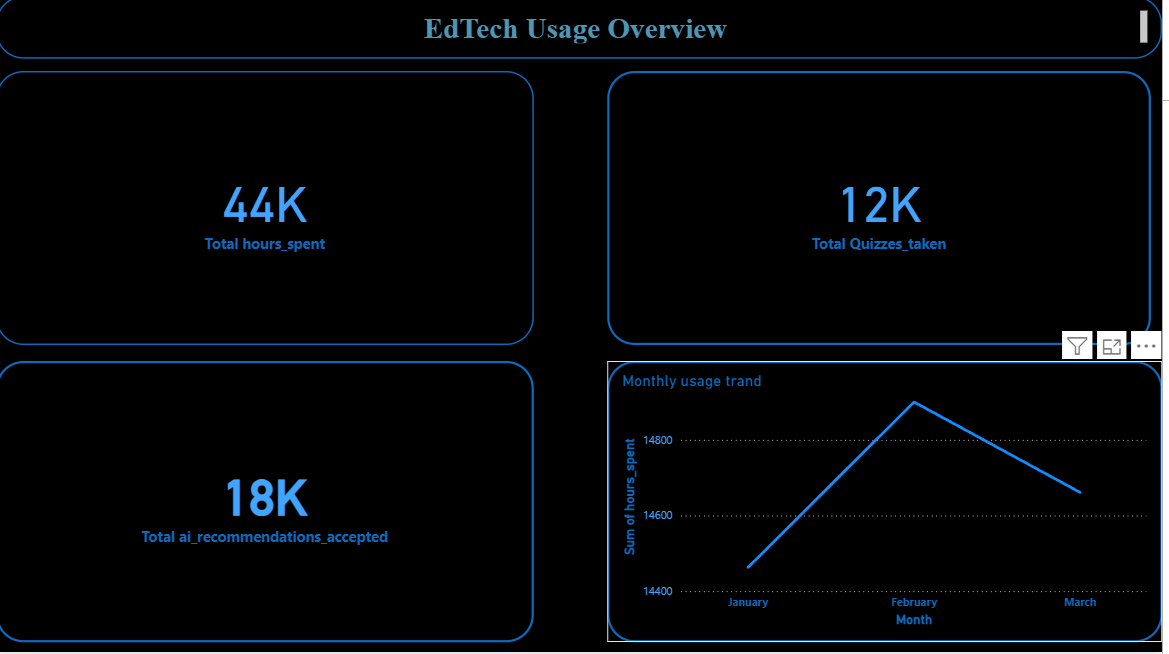

What the dashboard file says about the page in this screenshot:
{"tool":"powerbi","page":{"name":"Page 1","canvas":[1280,720],"ordinal":0},"visuals":[{"type":"textbox","box":[0,0,1280.3,68.6],"z":0},{"type":"card","fields":{"Values":["Sum(edtech_usage.hours_spent)"]},"box":[0,82.3,590.1,300.5],"z":1000},{"type":"card","fields":{"Values":["Sum(edtech_usage.quizzes_taken)"]},"box":[671,82.3,596.9,300.5],"z":2000},{"type":"card","fields":{"Values":["Sum(edtech_usage.ai_recommendations_accepted)"]},"box":[0,400.7,590.1,308.7],"z":3000},{"type":"lineChart","title":"Monthly usage trand","fields":{"Category":["edtech_usage.month.Variation.Date Hierarchy.Month"],"Y":["Sum(edtech_usage.hours_spent)"]},"box":[671,400.7,609.3,308.7],"z":4000}]}

Visuals, with their boxes on the page's 1280x720 design canvas (x1, y1, x2, y2). These are canvas units, not pixel positions in the 1169x654 screenshot, which may show the page scaled, cropped or inside an application window:
textbox: Rect(0, 0, 1280, 69)
card - Sum(edtech_usage.hours_spent): Rect(0, 82, 590, 383)
card - Sum(edtech_usage.quizzes_taken): Rect(671, 82, 1268, 383)
card - Sum(edtech_usage.ai_recommendations_accepted): Rect(0, 401, 590, 709)
"Monthly usage trand" lineChart: Rect(671, 401, 1280, 709)
